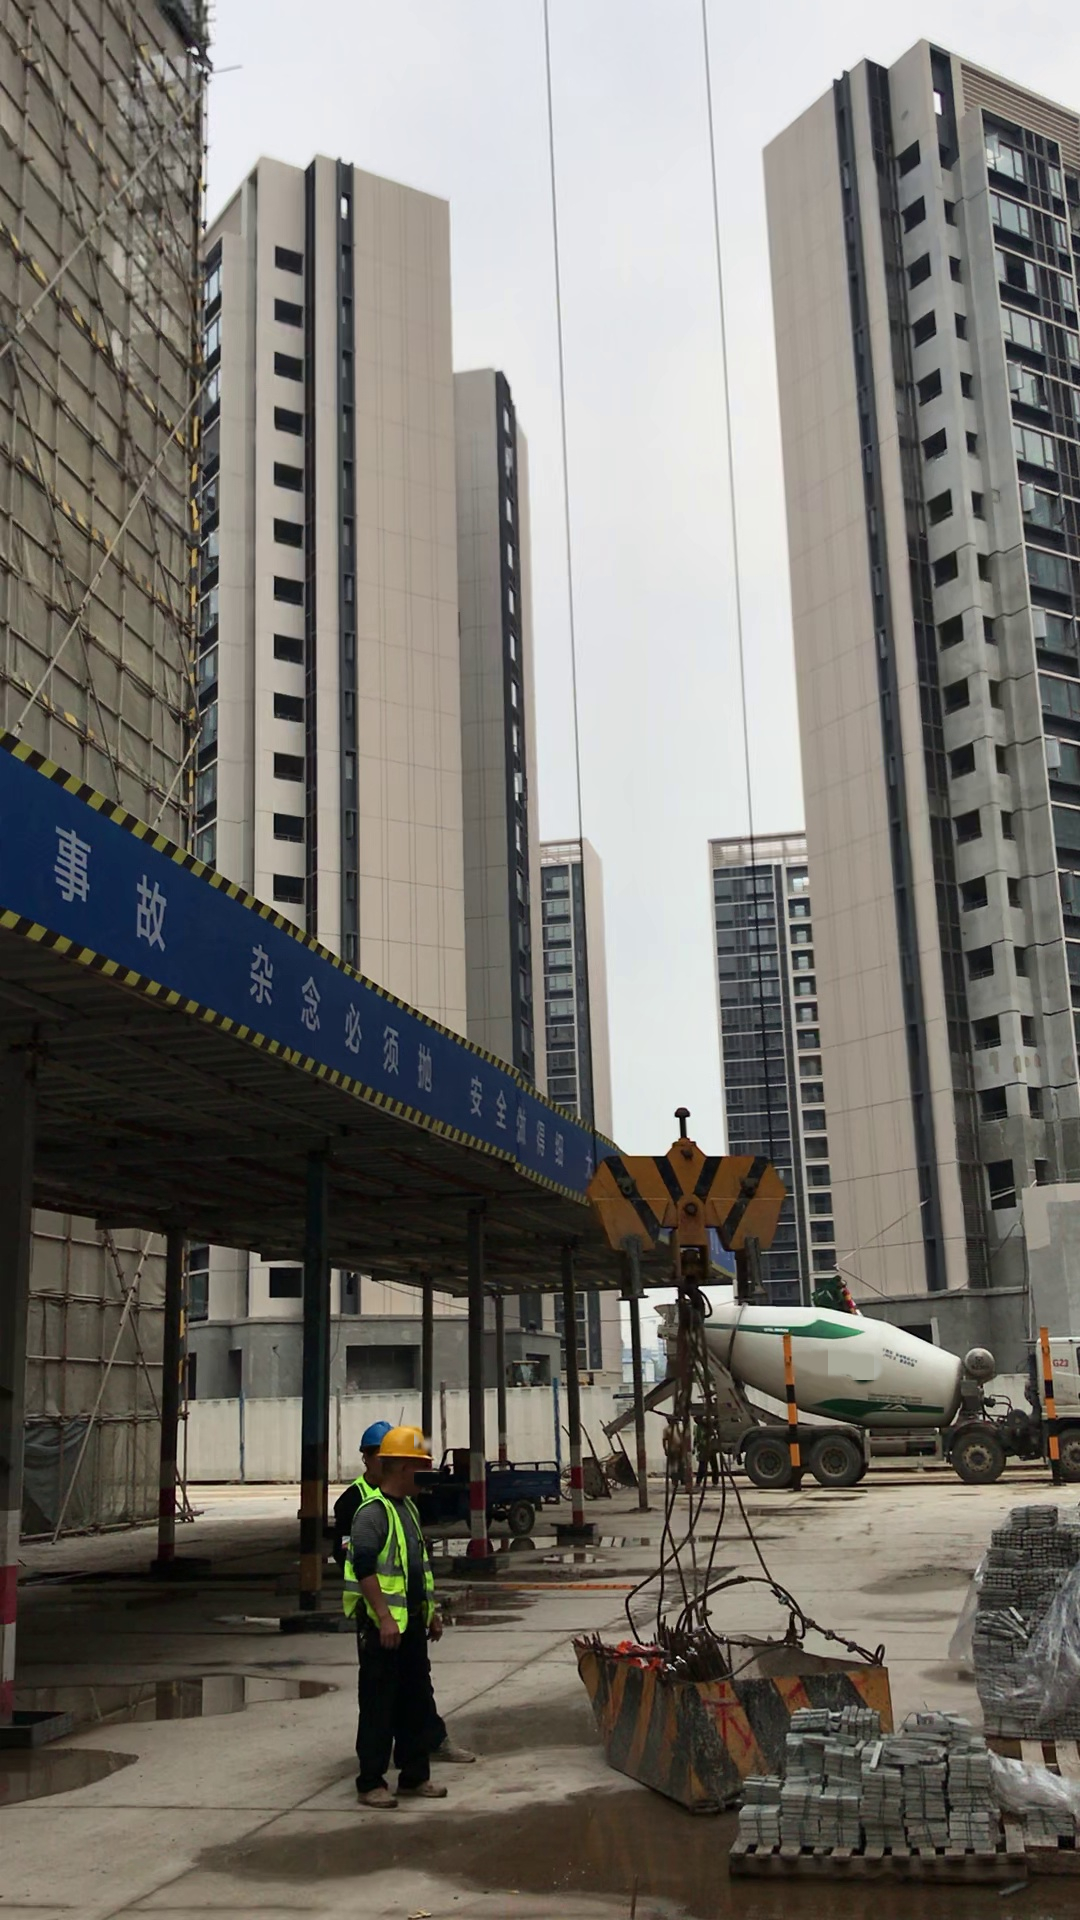handcart: (574, 1423, 639, 1502)
helmet: (375, 1422, 448, 1469), (342, 1405, 398, 1454)
hook: (582, 1109, 777, 1265)
person: (360, 1427, 448, 1808), (330, 1405, 391, 1568)
slogan: (9, 781, 580, 1201)
vest: (361, 1488, 442, 1625)
